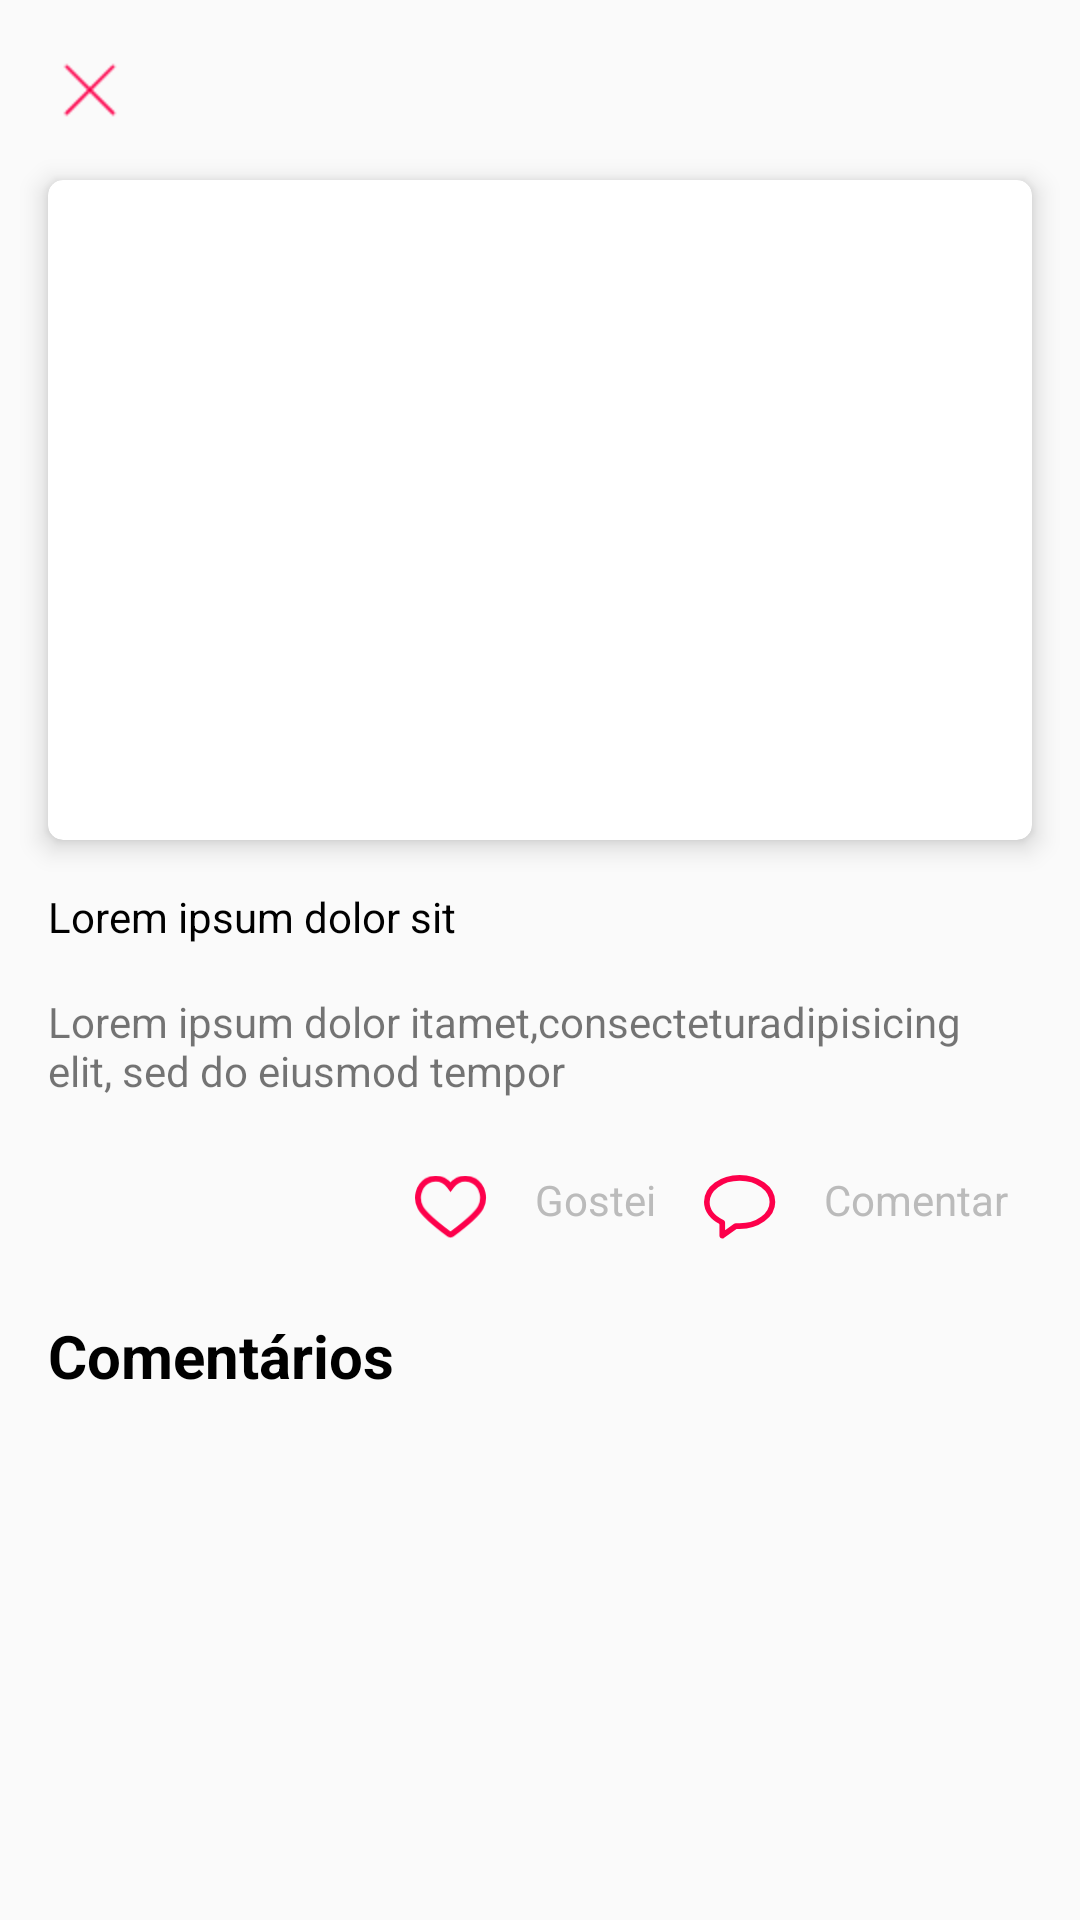

Point at icon controls on the screen. Image size 1080×1920, points as (x=x, y=y).
close: (x=90, y=90)
comment: (x=740, y=1207)
like: (x=450, y=1207)
